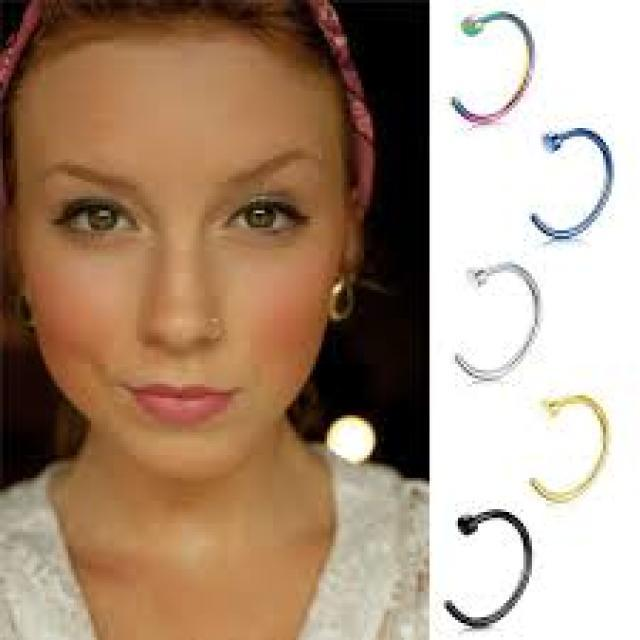Earring: (201, 307, 232, 340)
